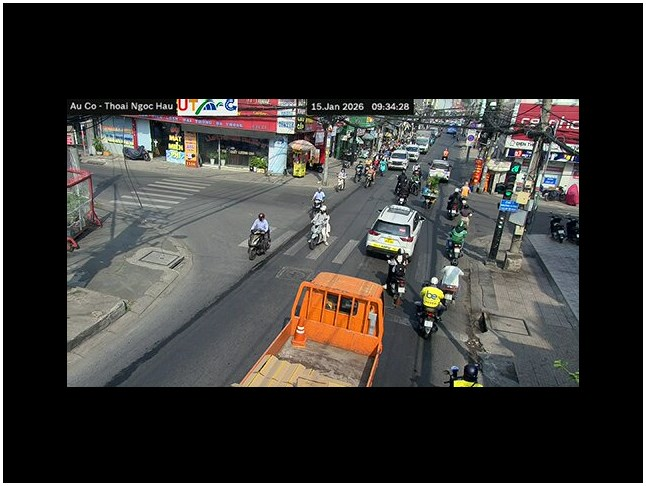car: (363, 204, 425, 260), (429, 160, 451, 181), (123, 145, 150, 160), (388, 151, 408, 168)
truck: (236, 269, 386, 385)
